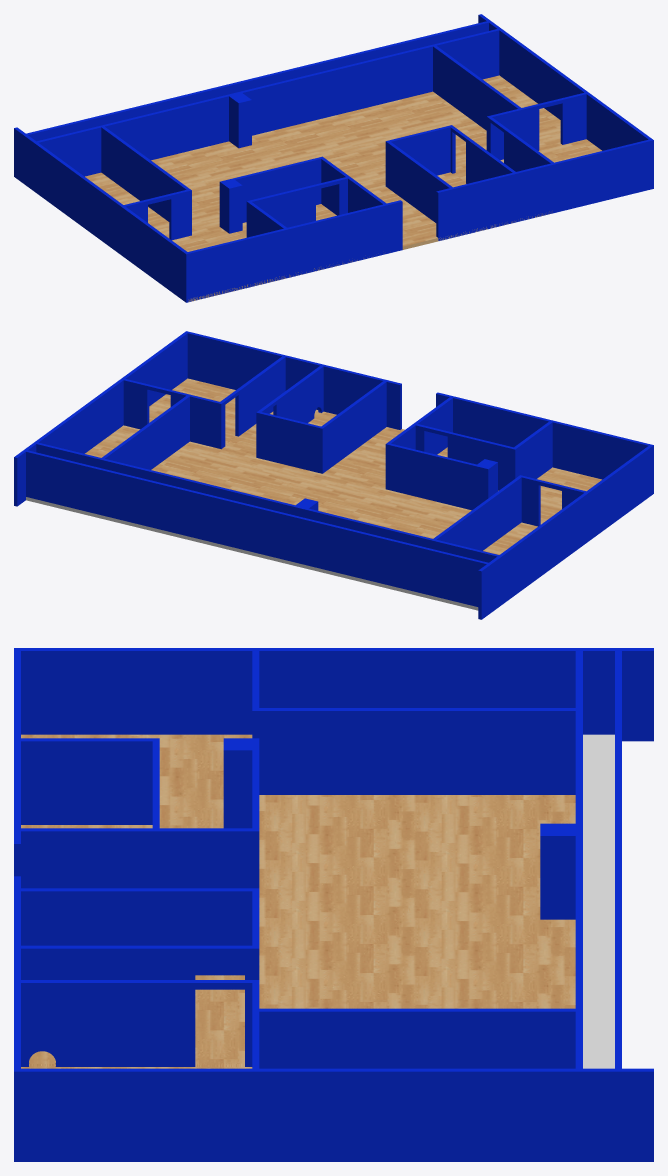
The model's file is Food_Game_Level_1_Final.fbx.
3 views of the same model, one above another, from view 1: azimuth 30°, elevation 25°; view 2: azimuth 150°, elevation 25°; view 3: azimuth 270°, elevation 25° (orthographic). The views are drawn at different scales.
Visible parts, largest first — view 1: Inner_Walls, Floor; view 2: Inner_Walls, Floor; view 3: Inner_Walls, Floor.
Part boxes in pixels (<box>): Inner_Walls: <box>14,14,653,302</box>; Floor: <box>85,75,601,301</box>; Inner_Walls: <box>14,331,653,619</box>; Floor: <box>26,378,601,610</box>; Inner_Walls: <box>14,648,653,1161</box>; Floor: <box>21,734,614,1068</box>.
Size of the model in its own units: 14100 by 1400 by 9000.
